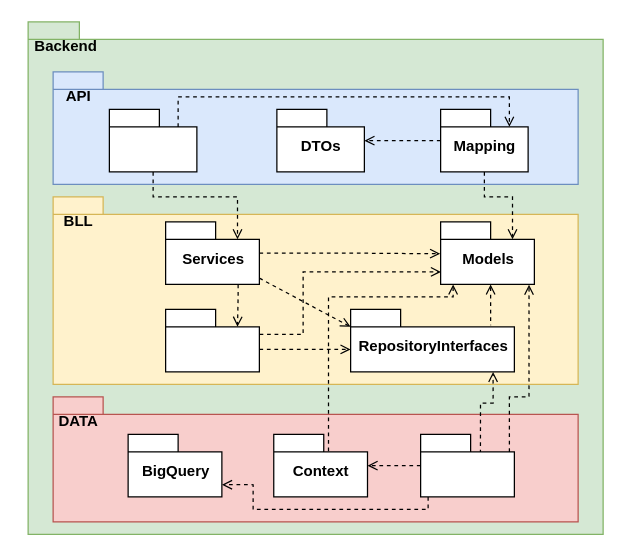
Image size: 625x556. Some labels were removed from this diagram. Here are the shapes that lost their labels. From the top down, the centre of each, then its label:
(x=152, y=140): Controllers
(x=211, y=340): Helpers
(x=466, y=465): Repositories
